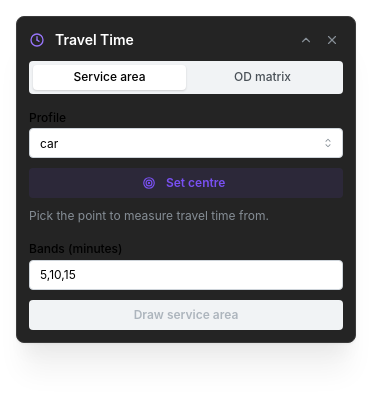
Test: TravelTimePanel service areas › shows itinera's message and draws nothing when every band fails
Click the button "Set centre" at [186, 183], box [29, 168, 343, 198]
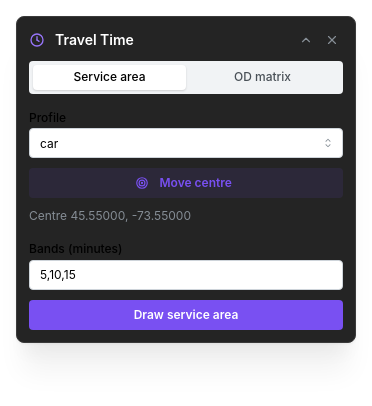
Replace the text in the field with test id "travel-time-bands" with "5" at [186, 275], box [29, 260, 343, 290]
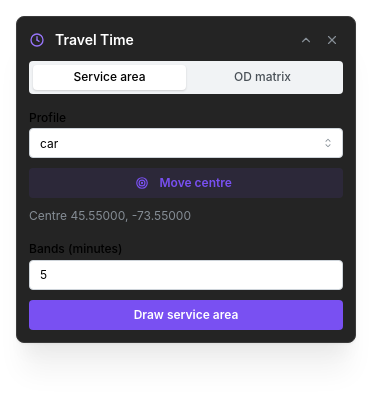
Click the button "Draw service area" at [186, 315], box [29, 300, 343, 330]
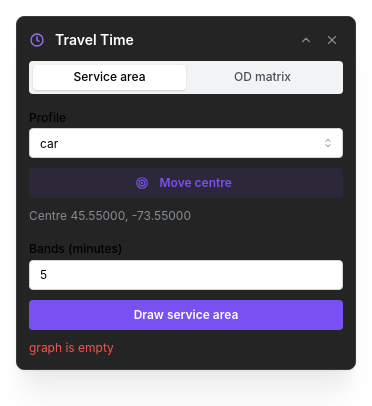
Expected: the text with test id "travel-time-area-error" reads "graph is empty", [29, 340, 114, 355]
